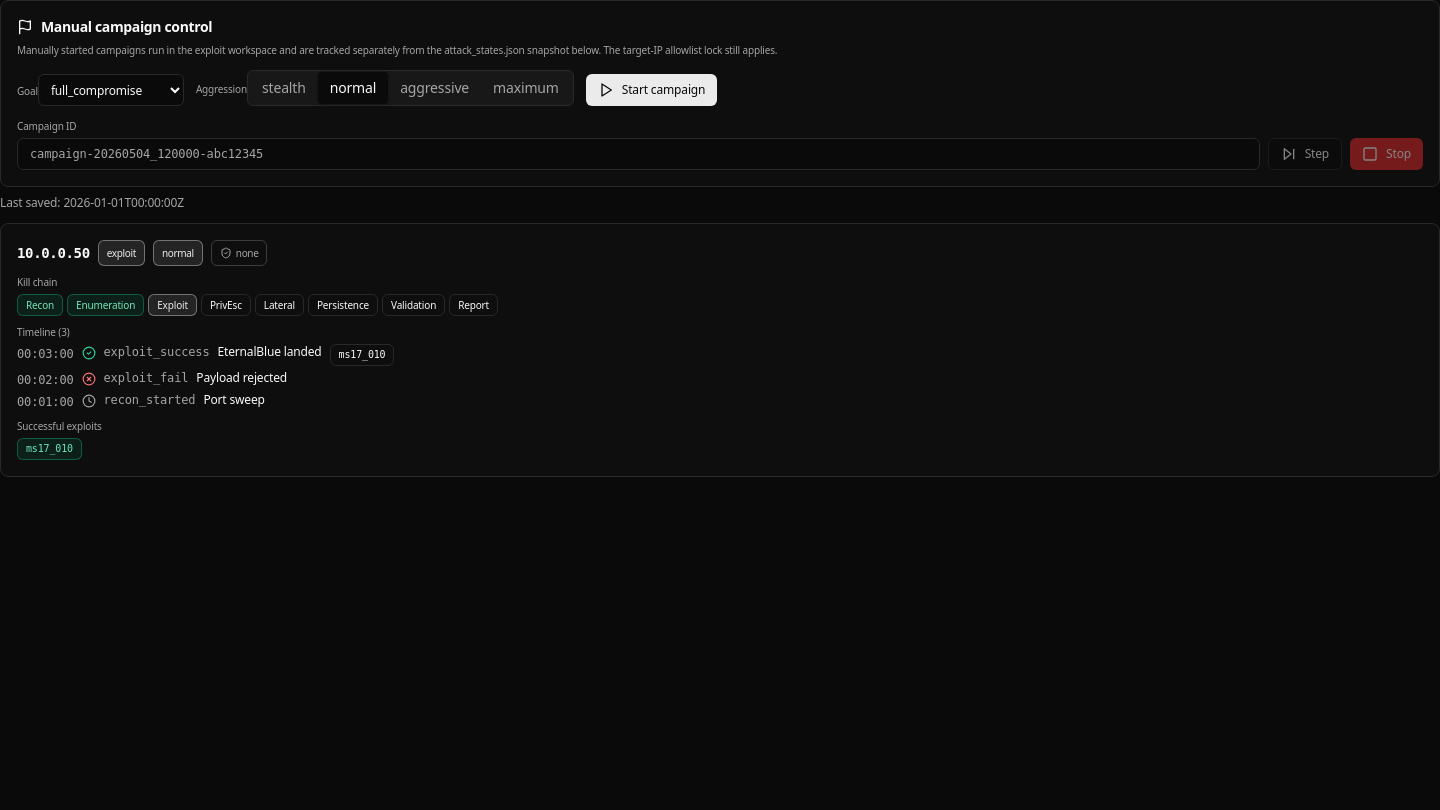
Test: Campaign manual controls › start requires a confirm dialog before mutating
Click the button "Start campaign".
click(652, 90)  # box [586,74,717,106]
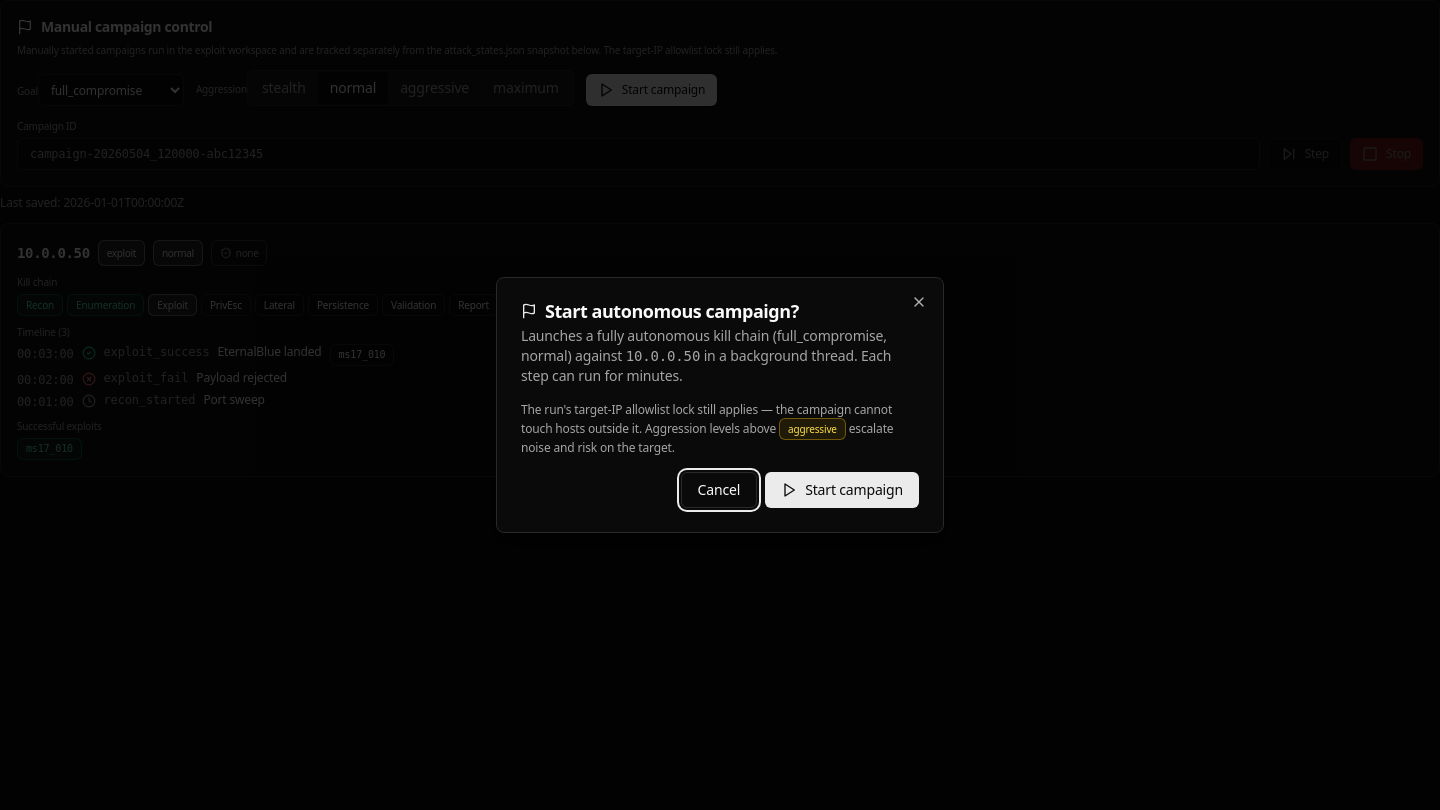
Expected: the dialog is shown, [496,277,944,533]
Click the button "Start campaign".
click(842, 490)  # box [765,472,919,508]
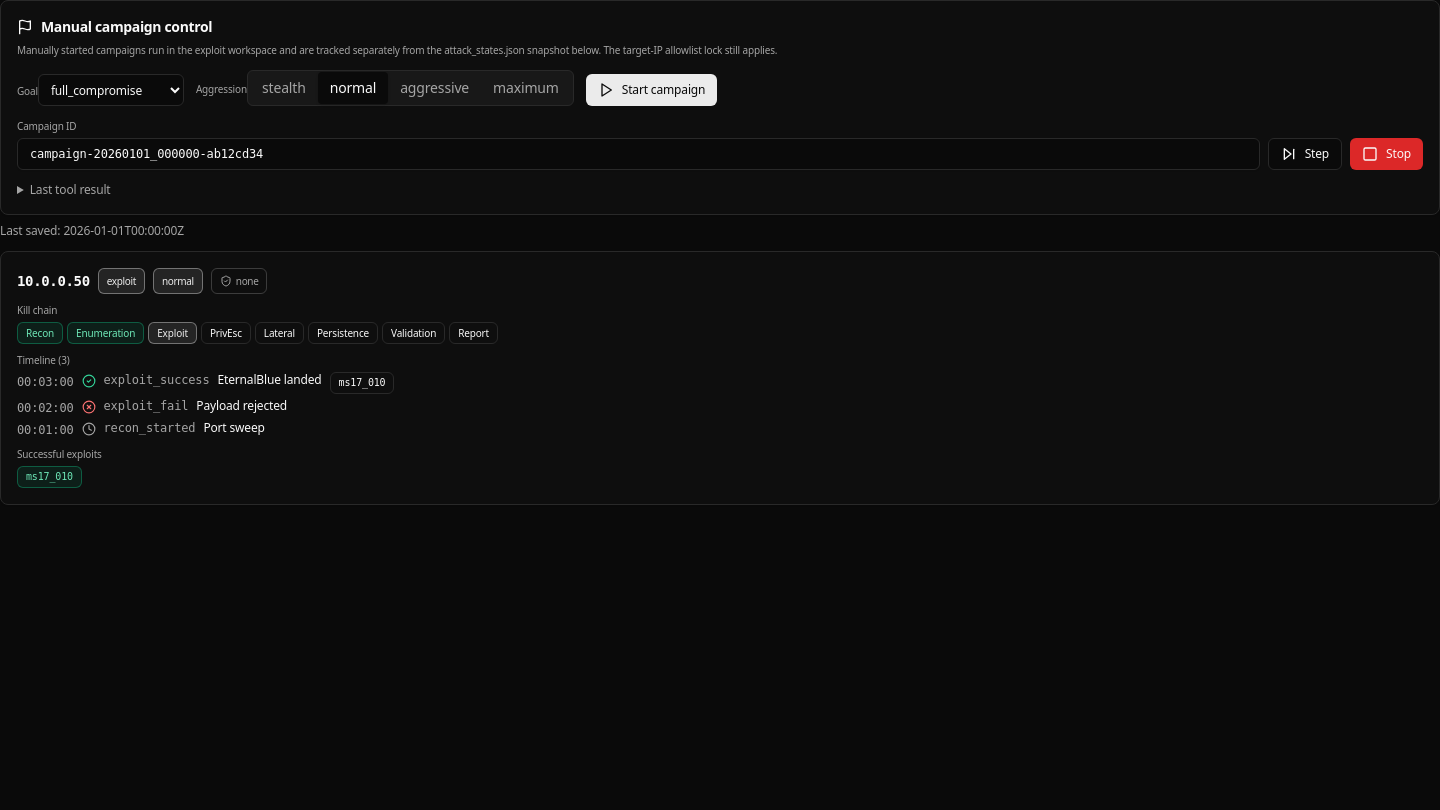
Expected: the dialog is gone
